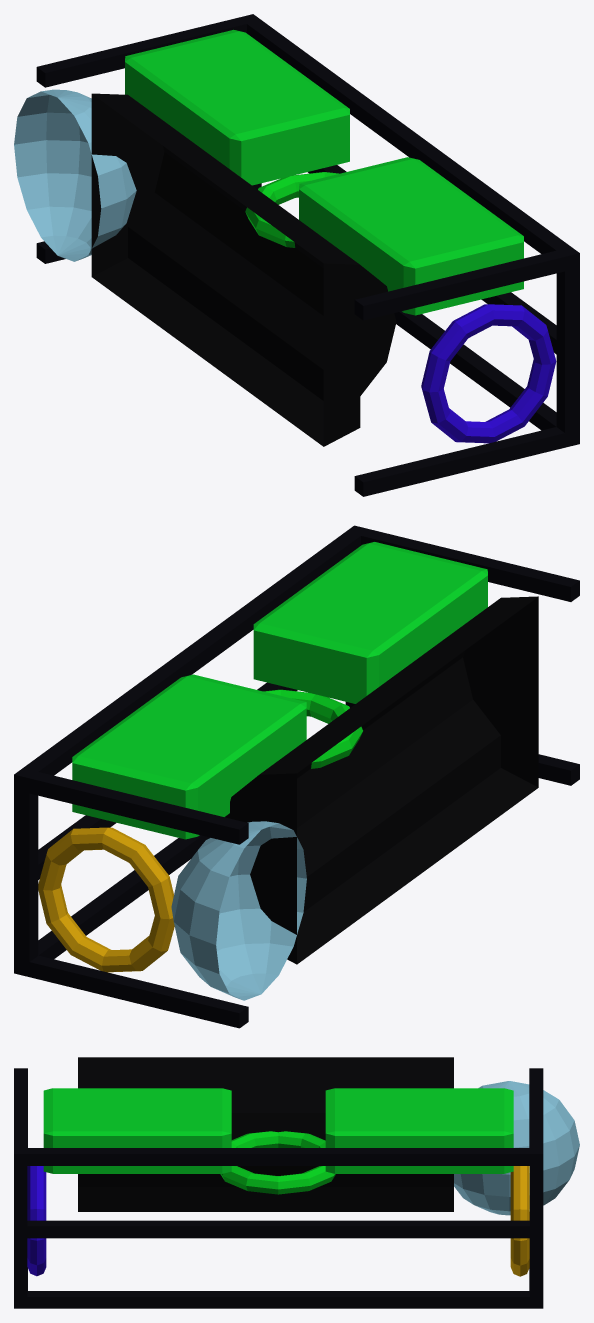
The model's file is rov5.obj.
3 views of the same model, one above another, from view 1: azimuth 30°, elevation 25°; view 2: azimuth 150°, elevation 25°; view 3: azimuth 270°, elevation 25° (orthographic). The views are drawn at different scales.
Visible parts, largest first — view 1: Fuselage, Floater, Frame, Lens, Aft_thruster, Downward_Thruster; view 2: Fuselage, Floater, Frame, Lens, Fore_Thruster, Downward_Thruster; view 3: Frame, Fuselage, Floater, Lens, Downward_Thruster, Fore_Thruster, Aft_thruster.
Boxes of the visible parts, left/top/right/bottom form: Fuselage: left=91, top=93, right=396, bottom=446; Floater: left=125, top=29, right=523, bottom=315; Frame: left=36, top=14, right=579, bottom=496; Lens: left=14, top=89, right=136, bottom=261; Aft_thruster: left=421, top=304, right=556, bottom=443; Downward_Thruster: left=245, top=172, right=338, bottom=247; Fuselage: left=226, top=596, right=538, bottom=964; Floater: left=72, top=542, right=487, bottom=839; Frame: left=14, top=525, right=579, bottom=1028; Lens: left=171, top=821, right=306, bottom=1000; Fore_Thruster: left=38, top=827, right=174, bottom=972; Downward_Thruster: left=263, top=689, right=362, bottom=768; Frame: left=14, top=1068, right=543, bottom=1308; Fuselage: left=78, top=1057, right=453, bottom=1211; Floater: left=43, top=1088, right=513, bottom=1173; Lens: left=454, top=1081, right=579, bottom=1215; Downward_Thruster: left=220, top=1131, right=335, bottom=1194; Fore_Thruster: left=510, top=1166, right=529, bottom=1276; Aft_thruster: left=27, top=1166, right=46, bottom=1276.
Bounding box in the file's own units: 0.1678 × 0.1514 × 0.4686.
